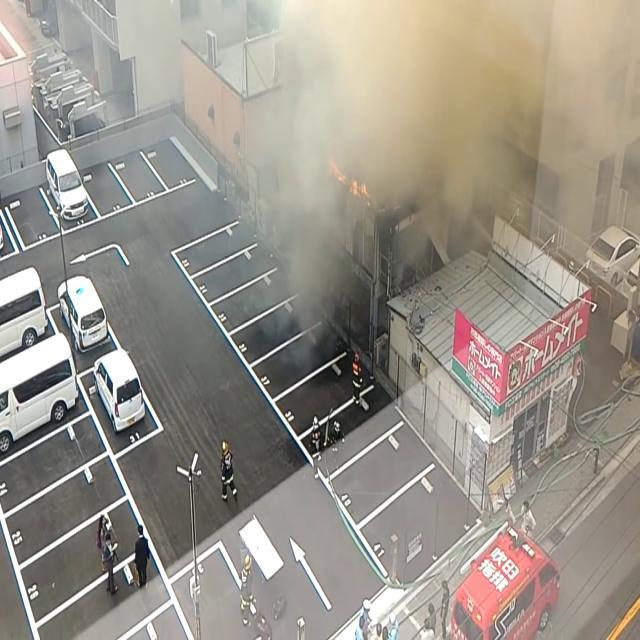Smoke: (226, 0, 639, 268), (224, 0, 506, 288)
